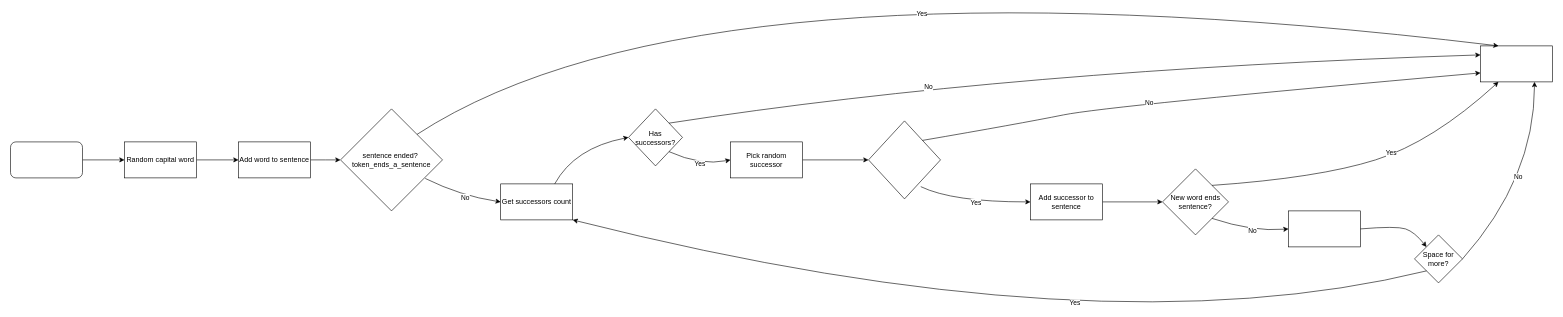
The diagram is 1563 pixels wide and 317 high, and some of its shapes have lost their labels. The centre of each missing label's shape, as x and y in pixels:
"Can fit in sentence? Check length" belongs at point (904, 159).
"Return sentence" belongs at point (1516, 63).
"Start" belongs at point (46, 159).
"Update current word" belongs at point (1324, 228).
